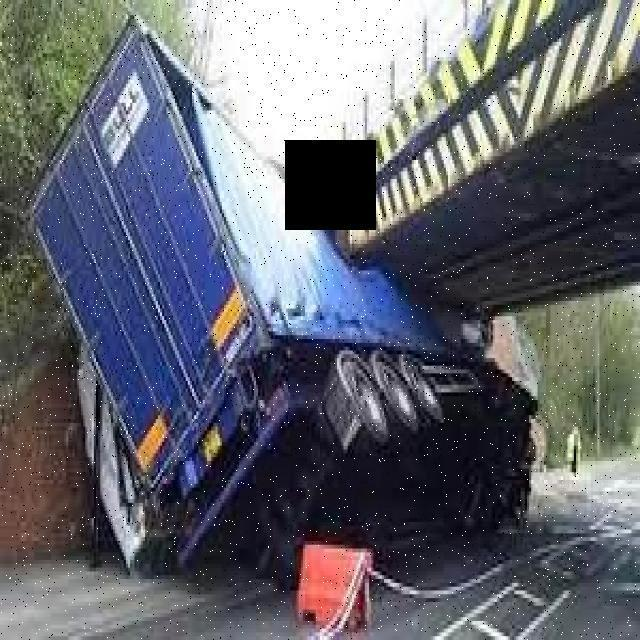accident: (21, 4, 538, 591)
